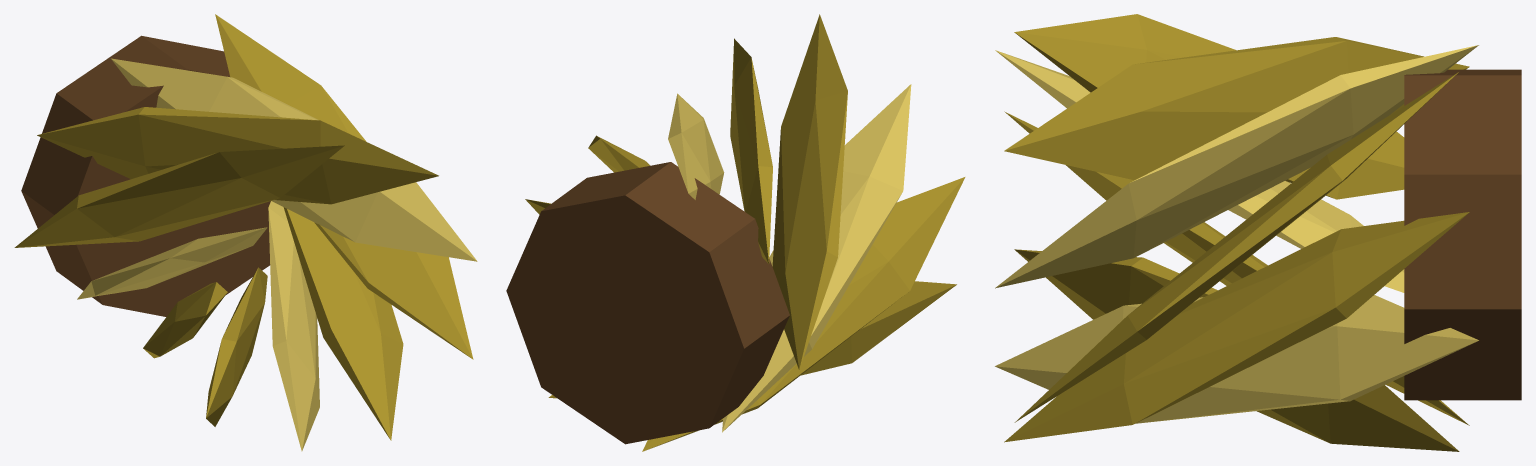
File: 3_growing.obj
The picture shows the model from 3 angles, left to right: view 1: azimuth 30°, elevation 25°; view 2: azimuth 150°, elevation 25°; view 3: azimuth 270°, elevation 25°; orthographic projection. The views are drawn at different scales.
Visible parts, largest first — view 1: harralander_3_growing; view 2: harralander_3_growing; view 3: harralander_3_growing.
Part boxes in pixels (bbox=[...]): harralander_3_growing: bbox=[14, 14, 477, 451]; harralander_3_growing: bbox=[506, 14, 965, 451]; harralander_3_growing: bbox=[995, 14, 1521, 451].
Size of the model in its own units: 0.1511 by 0.1483 by 0.1797.
